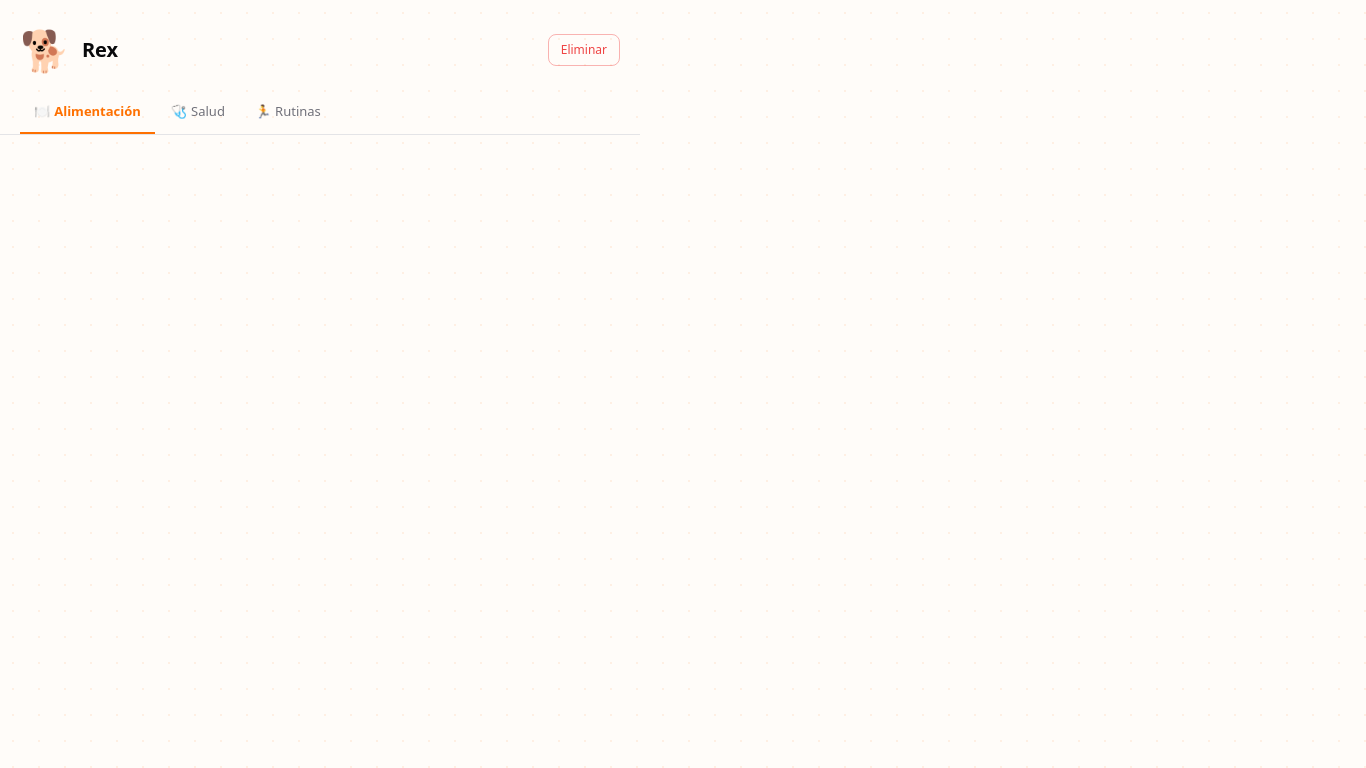
PetDetail › muestra confirmación al pulsar eliminar
Expected: the heading "Rex" is shown, [82,36,118,63]
Click the button "Eliminar".
click(584, 50)  # box [548,34,620,66]
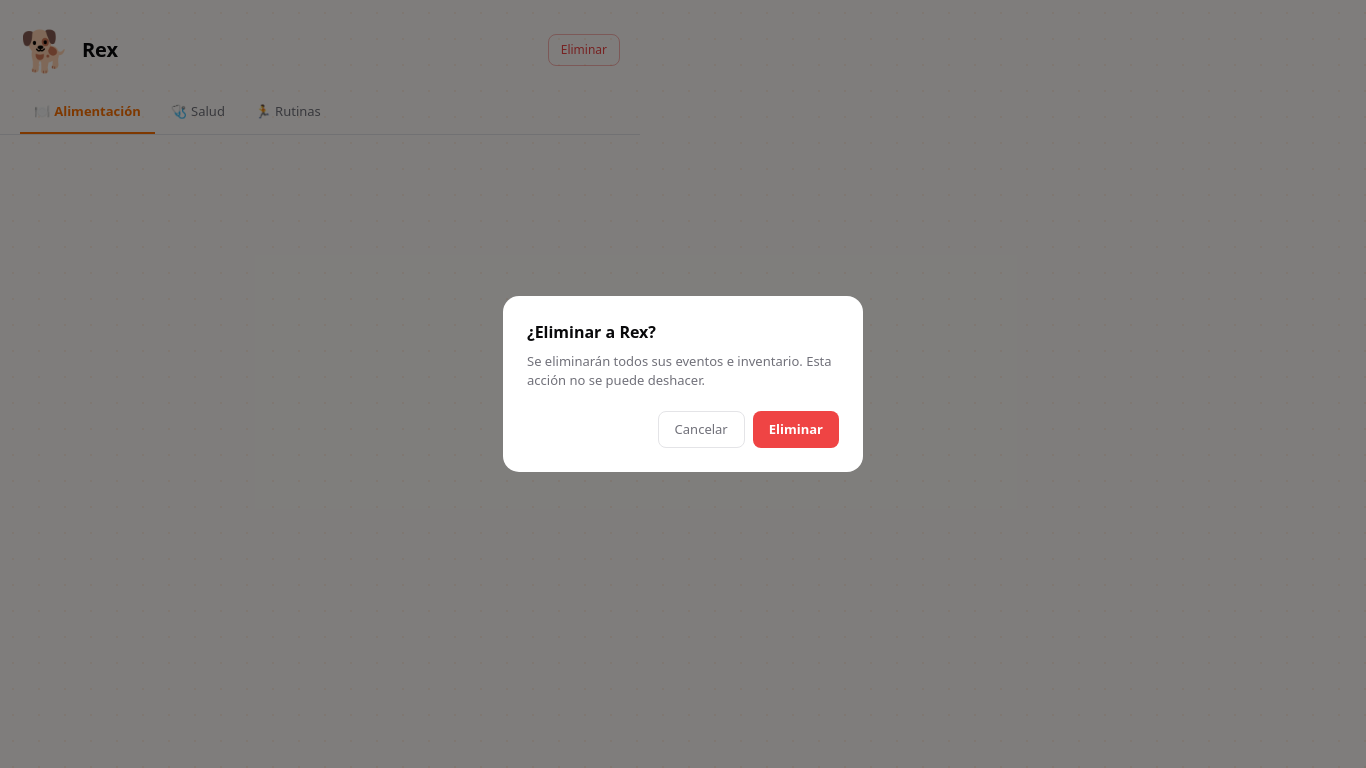
Now the text "¿Eliminar a Rex?" is shown, box [527,321,656,343]
